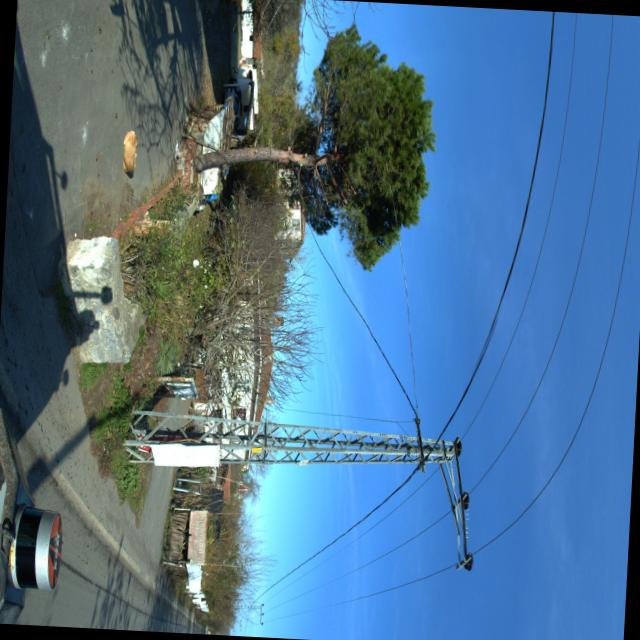Utility Pole Information Plate: (250, 447, 262, 454)
